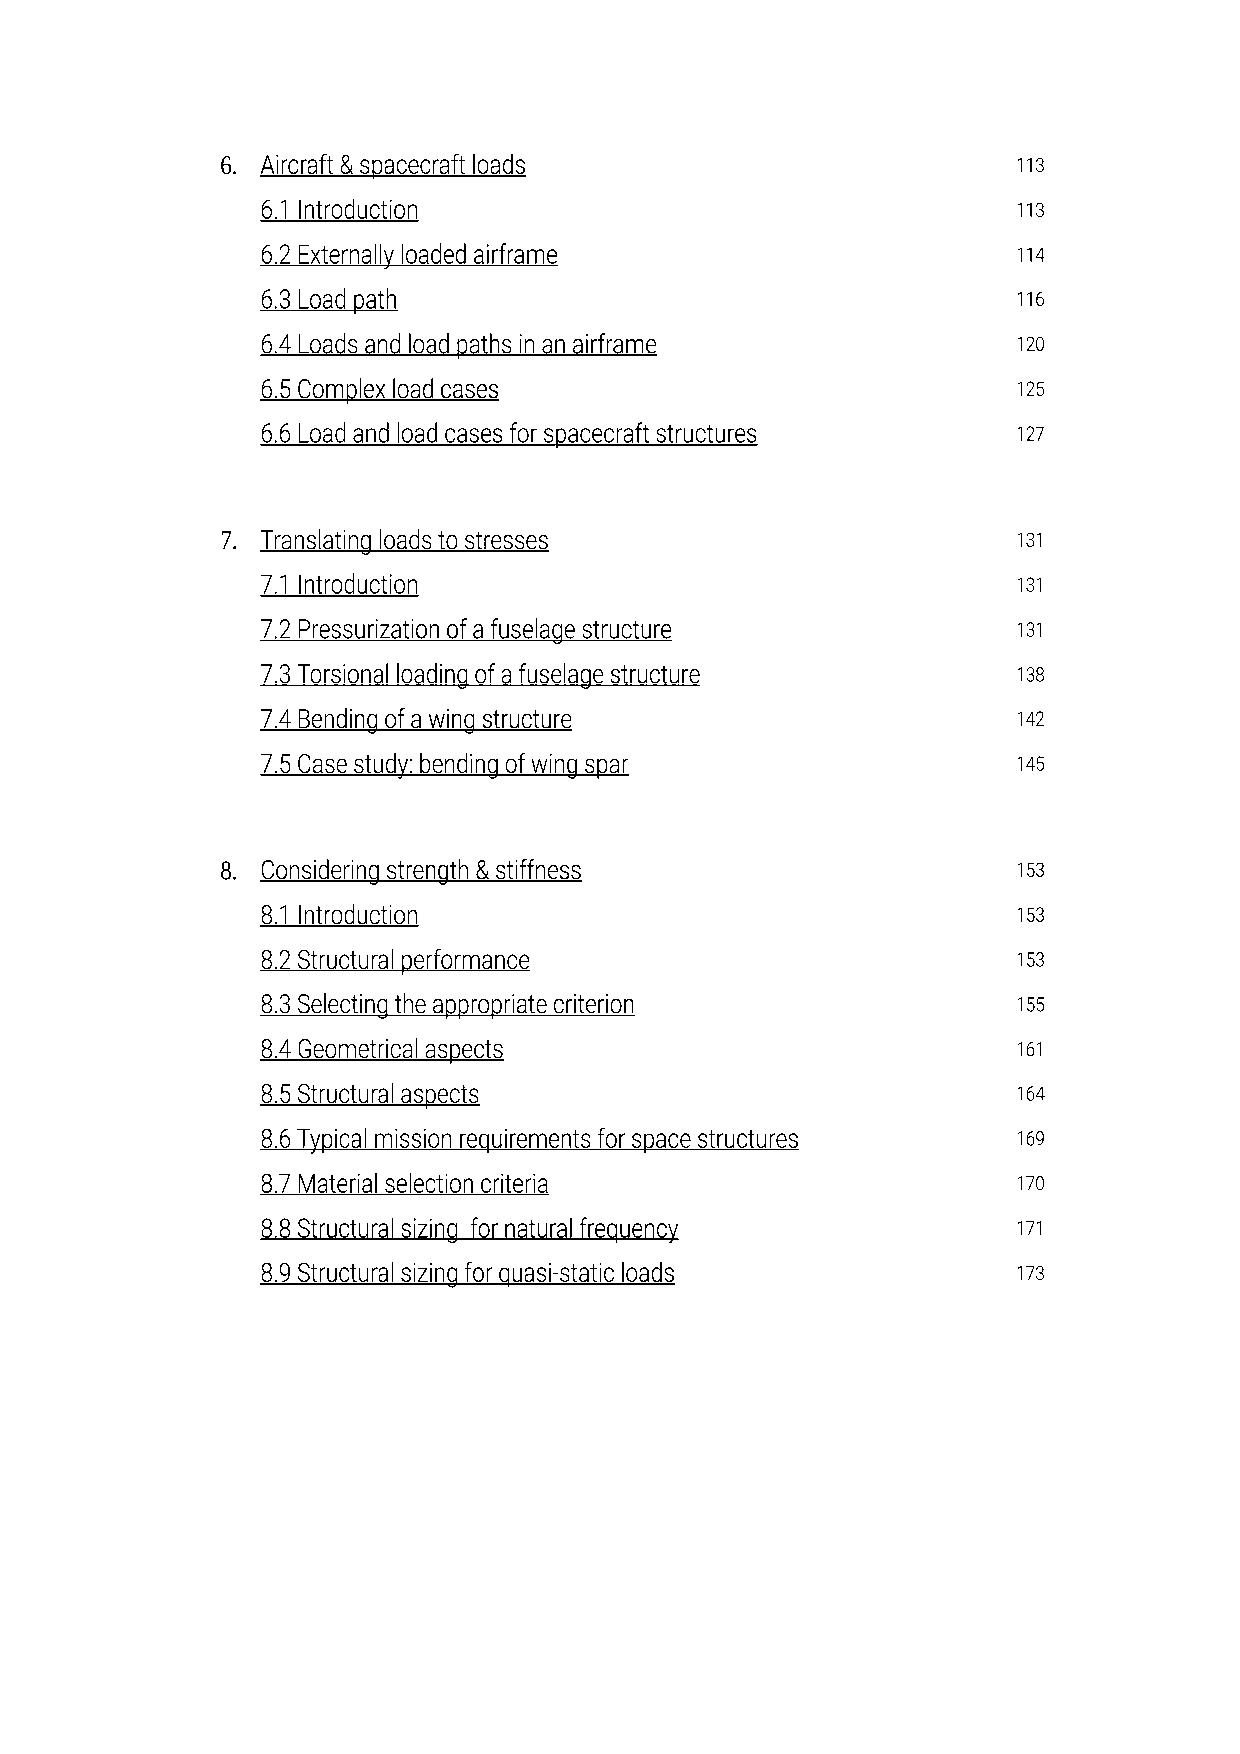TOC_chapter: (254, 1118, 807, 1159), (258, 417, 765, 452), (258, 1255, 678, 1292), (256, 608, 683, 644), (260, 1209, 683, 1243), (258, 327, 674, 361), (217, 852, 589, 888), (216, 515, 557, 554), (258, 743, 635, 778), (216, 144, 531, 185), (260, 658, 703, 687), (260, 985, 641, 1019), (251, 697, 574, 733), (250, 235, 568, 271), (251, 370, 505, 411), (258, 1168, 553, 1200), (260, 942, 534, 976), (256, 1029, 509, 1066), (256, 560, 429, 605), (251, 1078, 484, 1108), (251, 187, 427, 225), (238, 283, 401, 319), (258, 896, 427, 931)
TOC_pagenumber: (1005, 1164, 1049, 1198), (1008, 148, 1051, 180), (1008, 412, 1049, 444), (1008, 943, 1049, 973), (1012, 1075, 1053, 1104), (1011, 705, 1049, 735), (1005, 192, 1045, 221), (1015, 1259, 1051, 1291), (1012, 236, 1049, 266), (1012, 858, 1051, 886), (1008, 900, 1047, 927), (1011, 1126, 1053, 1150), (1011, 369, 1045, 399), (1012, 523, 1045, 553), (1015, 990, 1049, 1019), (1011, 1215, 1045, 1243), (1011, 662, 1049, 686), (1011, 619, 1045, 646), (1015, 1035, 1049, 1062), (1012, 283, 1045, 310), (1015, 750, 1045, 777), (1011, 329, 1044, 353), (1011, 574, 1041, 597)
